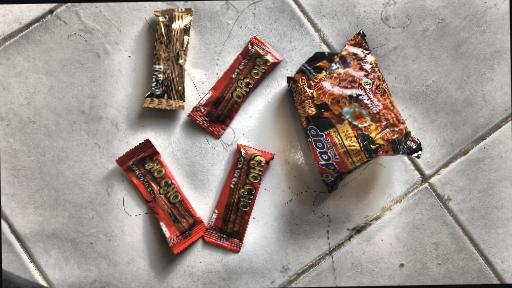chocho: (112, 139, 207, 254), (192, 38, 283, 135), (204, 138, 274, 254)
mie sedap: (283, 39, 433, 190)
top: (144, 3, 193, 114)
